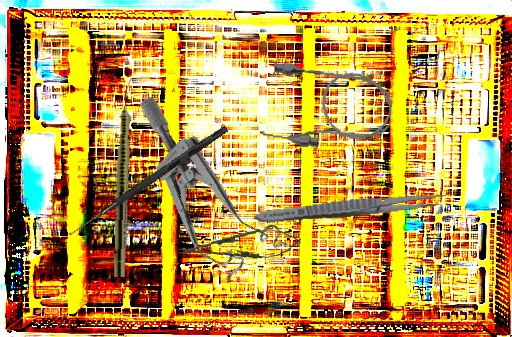Cannula: (259, 60, 395, 156)
Dressing Forceps: (253, 188, 448, 228)
Handpiece: (112, 77, 135, 278)
Hook Surgical: (68, 123, 229, 240)
Needle Holder: (176, 225, 303, 266)
Speculum: (89, 92, 303, 297)
